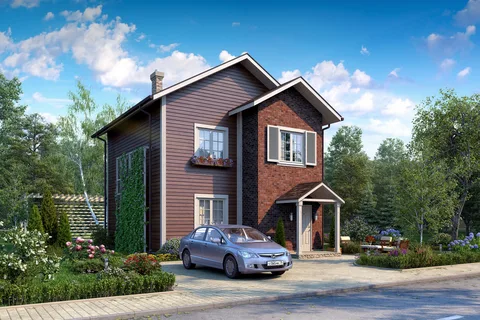private_hause: (100, 60, 331, 244)
